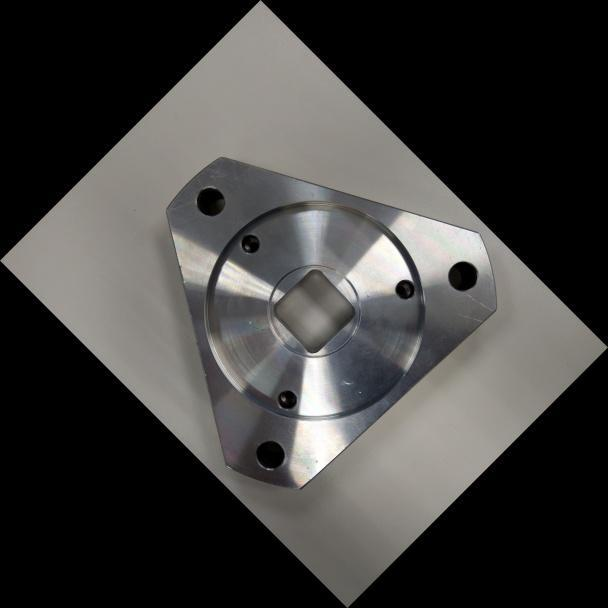hole: (439, 252, 486, 299), (246, 432, 293, 478), (187, 178, 233, 224), (270, 382, 304, 416), (233, 227, 266, 260), (389, 273, 422, 306)
